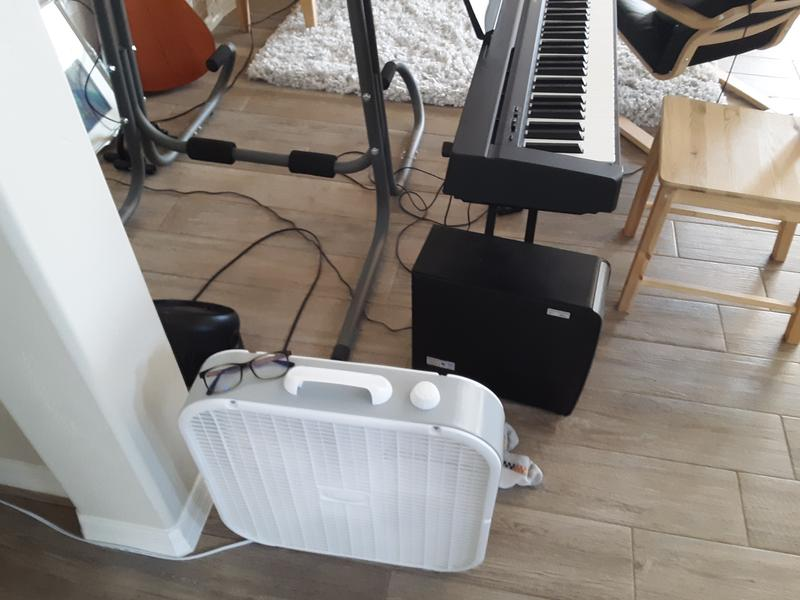glasses: (196, 350, 298, 397)
